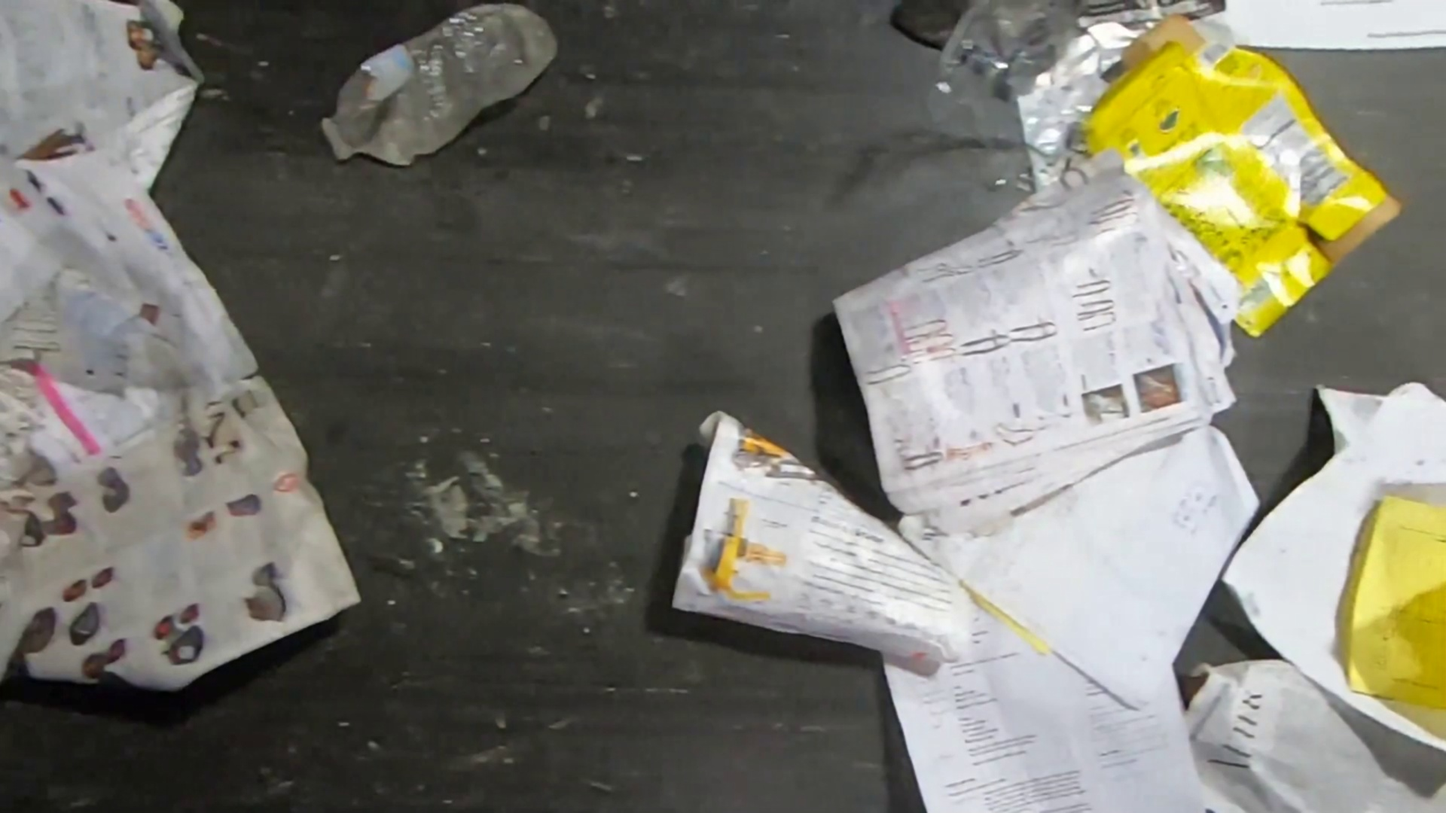cardboard: (1076, 12, 1406, 343)
plastic: (315, 1, 563, 168), (920, 0, 1113, 194)
